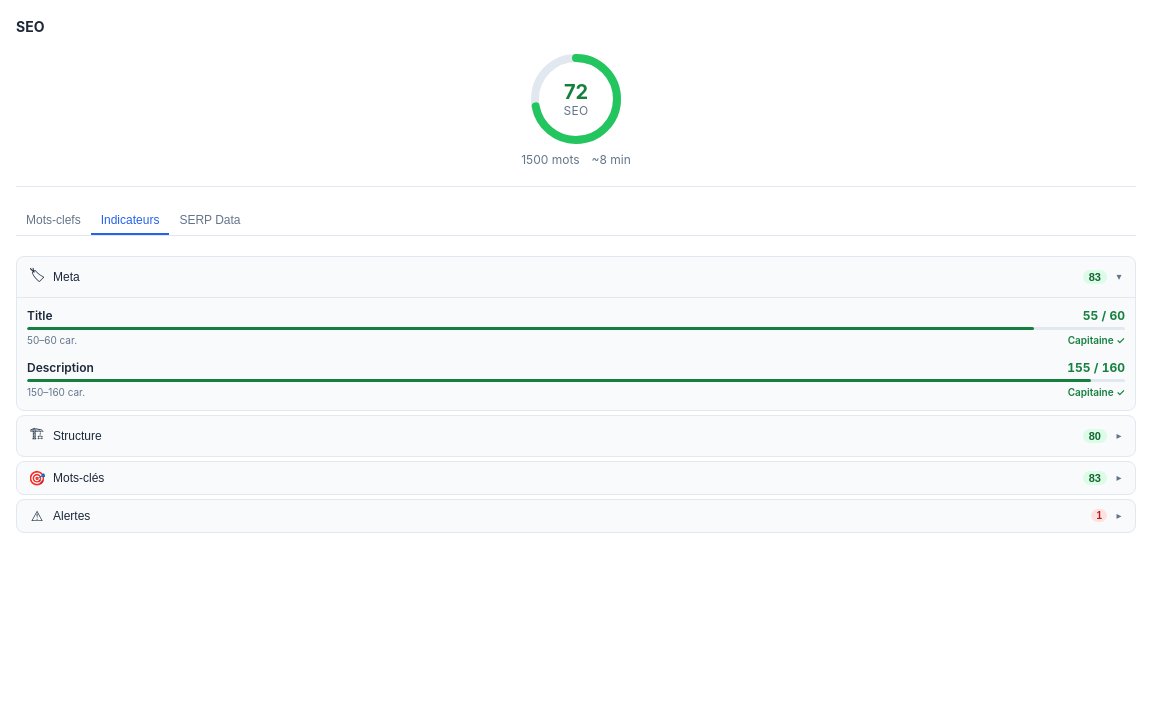
Test: SeoPanel › switches active tab on click
Click the tab with class "seo-tab" showing "Mots-clefs" at (53, 221), box [16, 207, 91, 235]
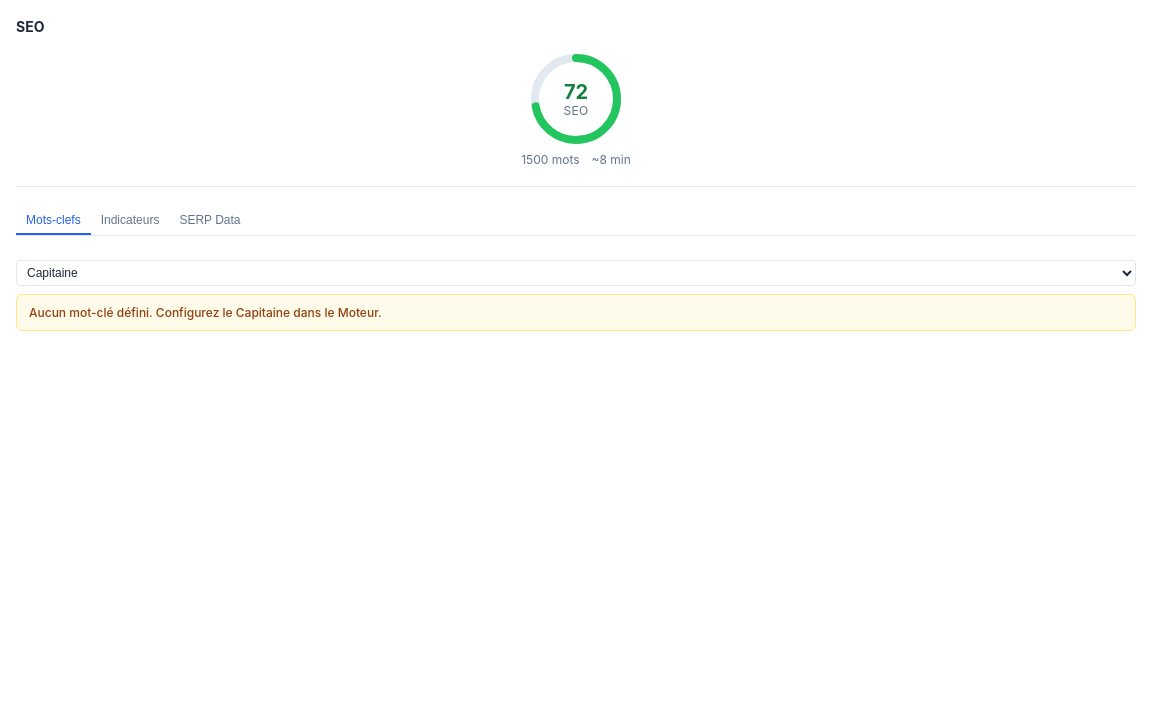
Result: the panel with id "seo-tabpanel-mots-clefs" is shown at [16, 248, 1136, 331]
